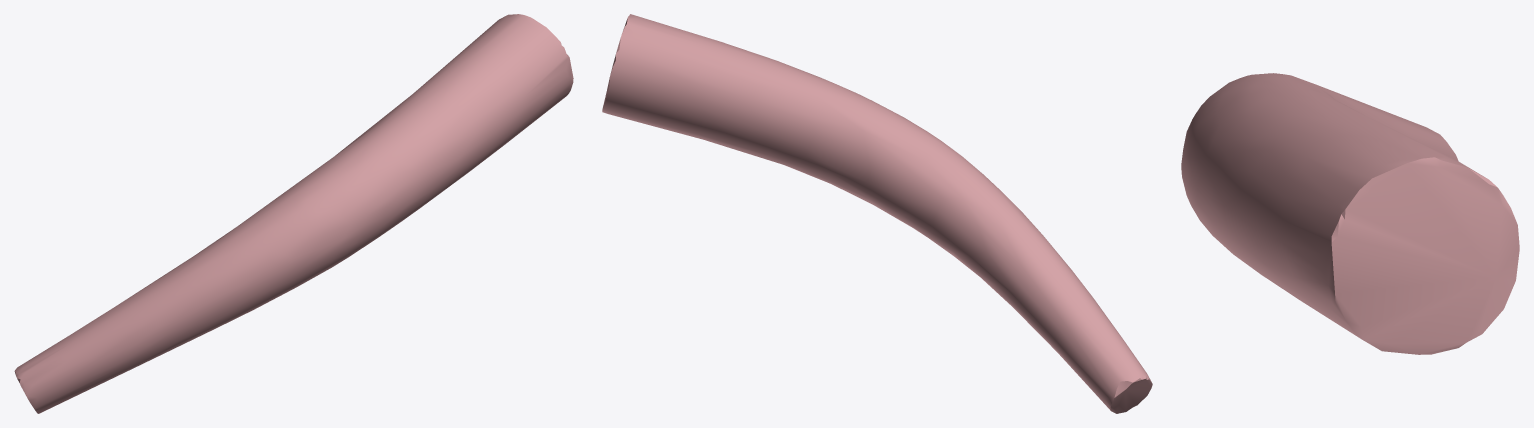
Rendered from fma68212_fj6543.glb.
3 renders of one model, left to right at view 1: azimuth 30°, elevation 25°; view 2: azimuth 150°, elevation 25°; view 3: azimuth 270°, elevation 25°, orthographic. The views are drawn at different scales.
Visible parts, largest first — view 1: FMA68212_FJ6543; view 2: FMA68212_FJ6543; view 3: FMA68212_FJ6543.
Boxes of the visible parts, x1,y1,x2,y2 form: FMA68212_FJ6543: (14, 14, 573, 413); FMA68212_FJ6543: (602, 14, 1152, 413); FMA68212_FJ6543: (1181, 73, 1519, 354).
Bounding box in the file's own units: 0.0243 × 0.0118 × 0.00661.
